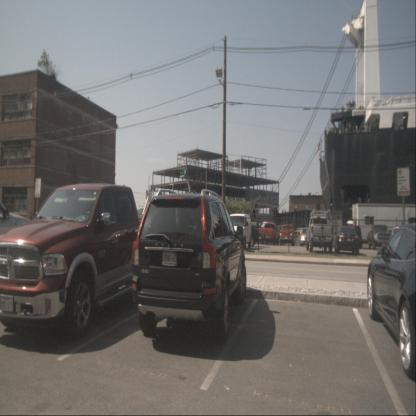vehicle-car: (131, 189, 247, 342), (366, 220, 416, 381), (228, 214, 251, 249), (335, 225, 359, 255), (367, 224, 393, 250), (348, 226, 363, 249), (300, 228, 312, 247)
vehicle-truck: (0, 183, 168, 346), (224, 214, 262, 247), (306, 217, 334, 252), (261, 223, 279, 247), (280, 224, 295, 247)
